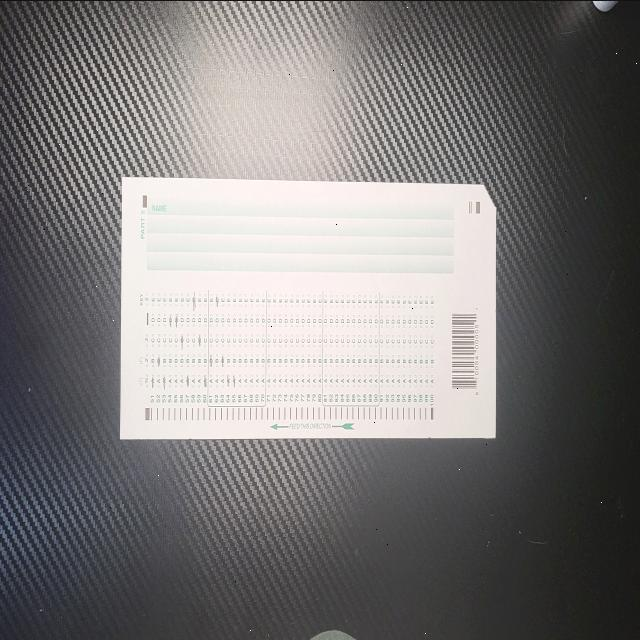scantron_back: (119, 177, 497, 437)
